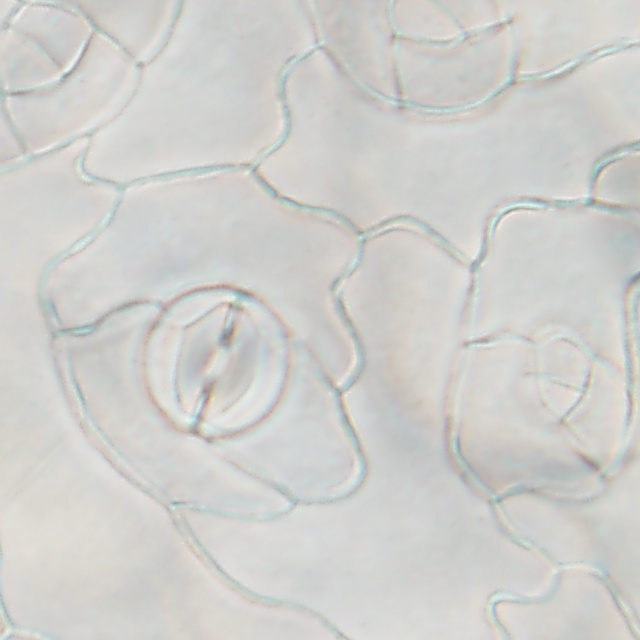center: (195, 334, 241, 397), (612, 318, 640, 320)
stomata-huw1: (143, 287, 289, 438), (627, 273, 639, 365)
